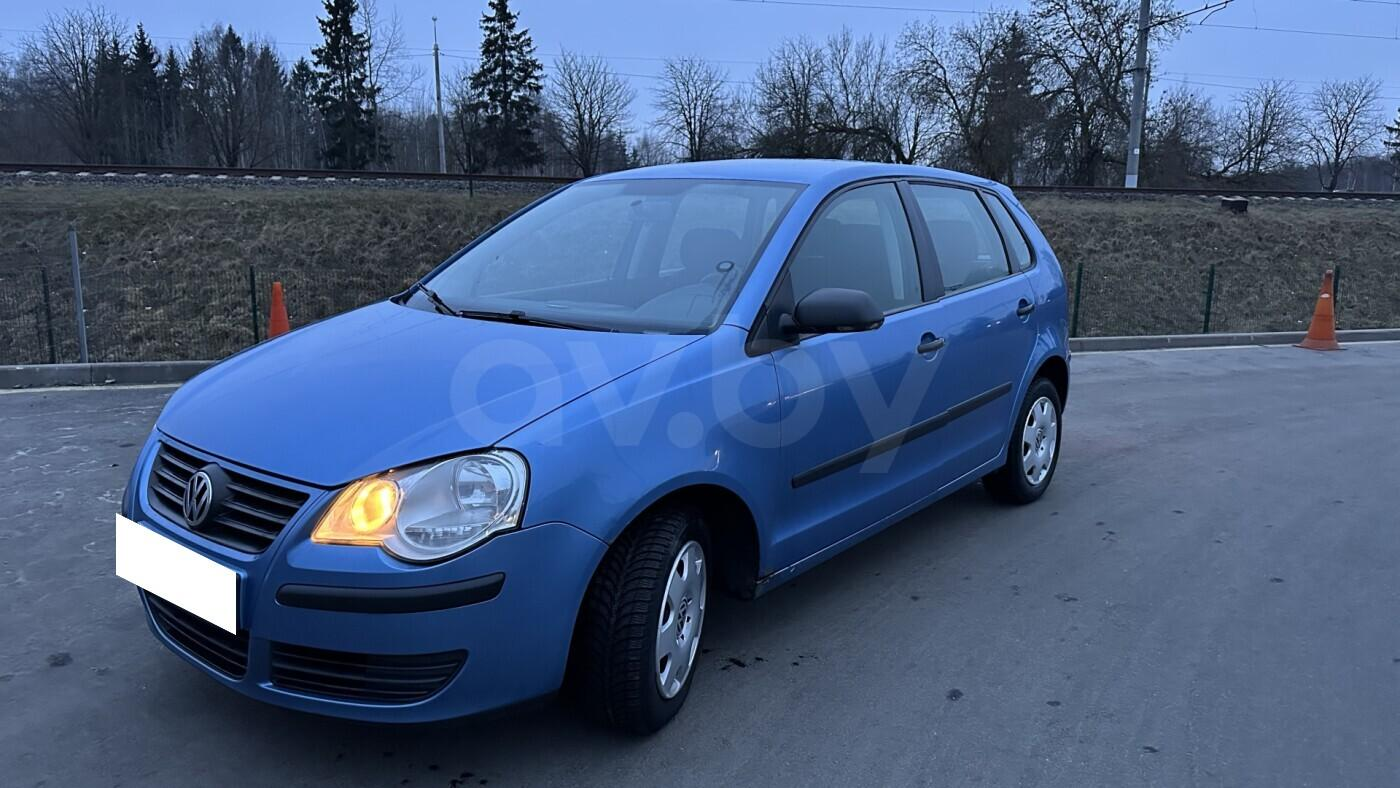Polo_2005-2009: (110, 135, 1095, 734)
